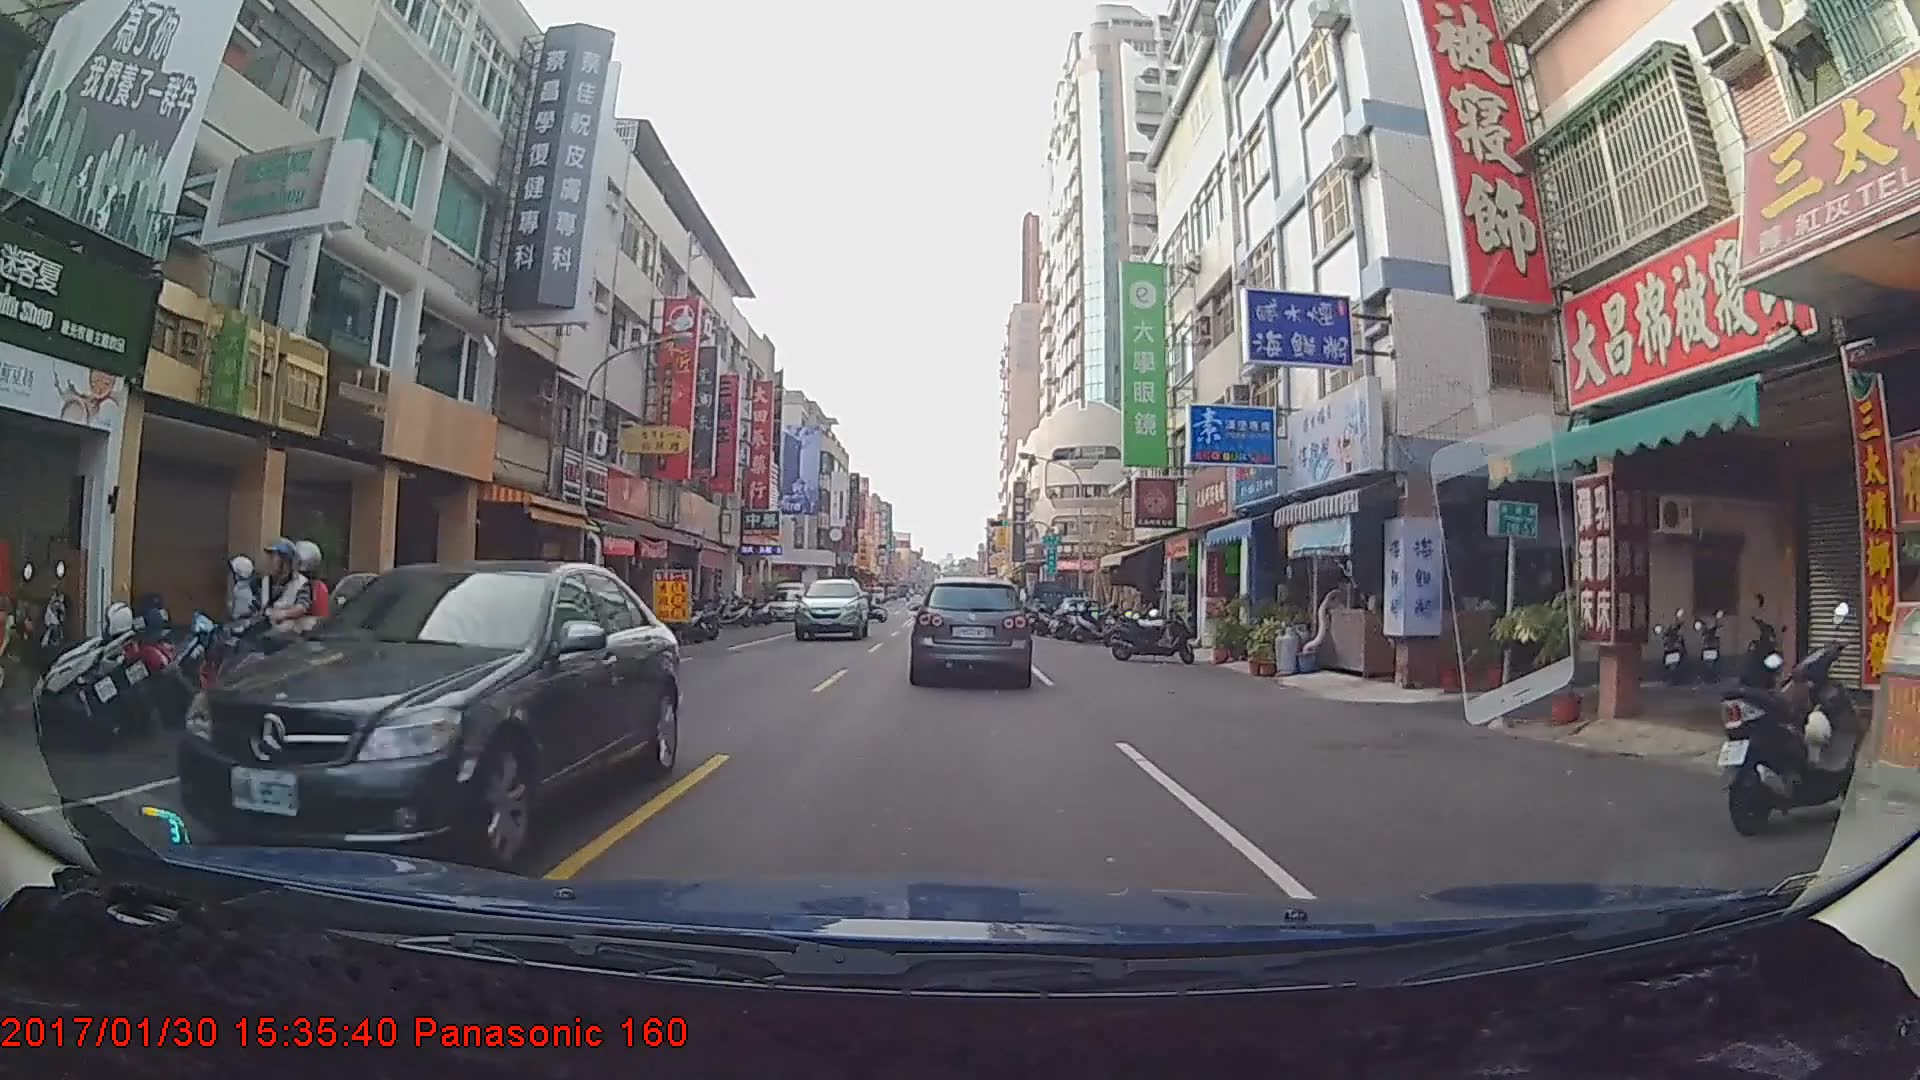rider: (209, 537, 341, 750)
vehicle: (176, 558, 680, 883), (912, 575, 1029, 685), (794, 577, 867, 642), (1024, 574, 1080, 624)
